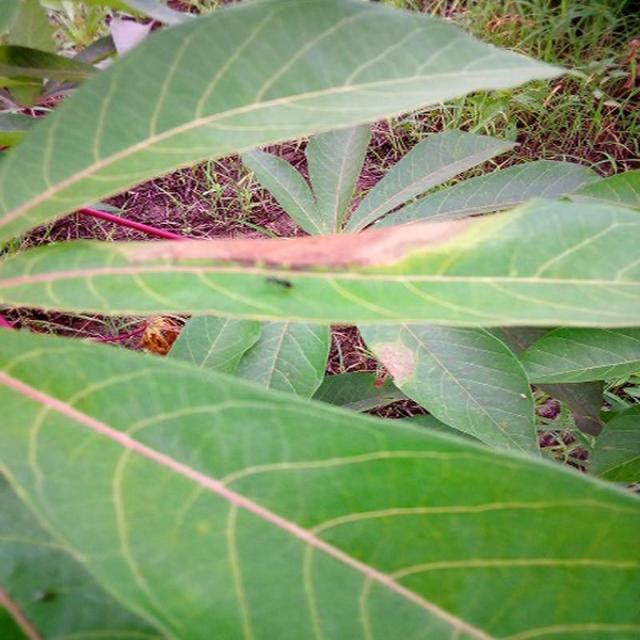cassava leaf: (1, 1, 638, 637), (0, 321, 638, 638), (0, 0, 589, 244)
